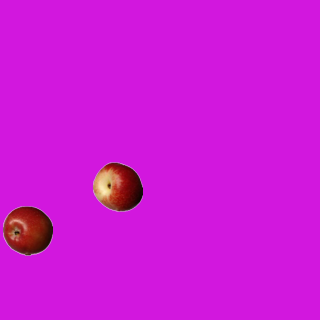Apple Braeburn: (2, 205, 52, 255)
Nectarine: (92, 161, 142, 211)
